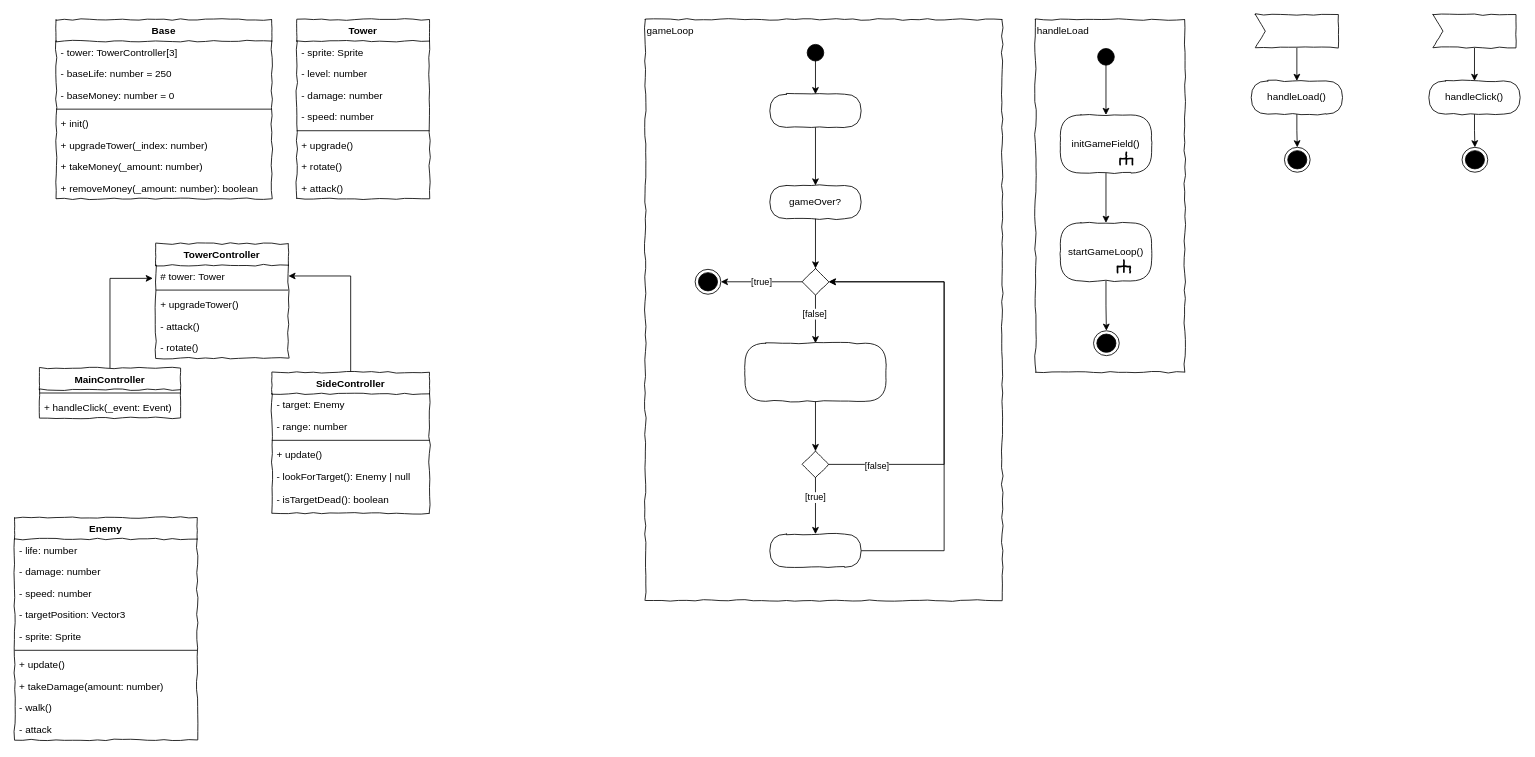
The diagram is 1535 pixels wide and 757 high, and some of its shapes have lost their labels. The shapes that lost their labels are listed below. From the top down, each one's centre as x and y in pixels, then its label:
At (x=1296, y=31): "Load".
At (x=1474, y=31): "Click".
At (x=815, y=110): "startTimer()".
At (x=815, y=371): "timer > spawnEnemyTime?".
At (x=815, y=550): "spawnEnemy()".
